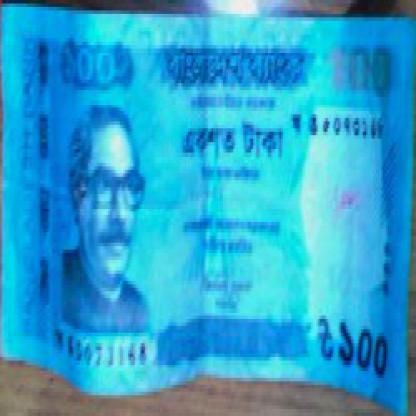one hundred taka: (320, 38, 396, 104), (57, 35, 133, 94), (336, 308, 393, 385)
